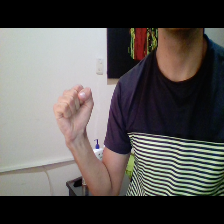9D: (49, 82, 99, 142)
